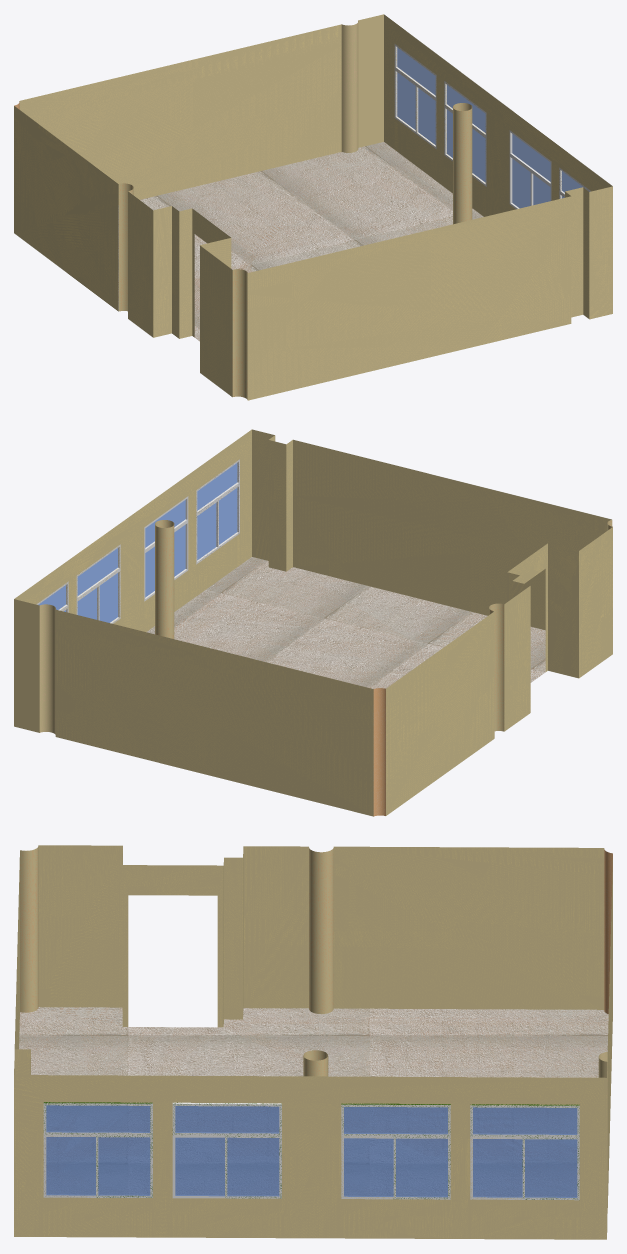
Rendered from AUL011.obj.
3 renders of one model, top to bottom at view 1: azimuth 30°, elevation 25°; view 2: azimuth 150°, elevation 25°; view 3: azimuth 270°, elevation 25°, orthographic. The views are drawn at different scales.
Parts seen in each view (by area): view 1: Mesh25 AUL011 Model, Mesh13 ventana1_1_3 AUL011 Model, Mesh1 ventana1_1_1 AUL011 Model, Mesh19 ventana1_1_4 AUL011 Model; view 2: Mesh25 AUL011 Model, Mesh7 ventana1_1_2 AUL011 Model, Mesh19 ventana1_1_4 AUL011 Model, Mesh1 ventana1_1_1 AUL011 Model; view 3: Mesh25 AUL011 Model, Mesh19 ventana1_1_4 AUL011 Model, Mesh1 ventana1_1_1 AUL011 Model, Mesh13 ventana1_1_3 AUL011 Model, Mesh7 ventana1_1_2 AUL011 Model.
Part boxes in pixels (left/top/right/bottom): Mesh25 AUL011 Model: left=14, top=14, right=612, bottom=400; Mesh13 ventana1_1_3 AUL011 Model: left=394, top=44, right=436, bottom=148; Mesh1 ventana1_1_1 AUL011 Model: left=509, top=130, right=551, bottom=209; Mesh19 ventana1_1_4 AUL011 Model: left=444, top=81, right=486, bottom=186; Mesh25 AUL011 Model: left=14, top=429, right=612, bottom=816; Mesh7 ventana1_1_2 AUL011 Model: left=196, top=459, right=239, bottom=564; Mesh19 ventana1_1_4 AUL011 Model: left=76, top=544, right=120, bottom=623; Mesh1 ventana1_1_1 AUL011 Model: left=144, top=496, right=188, bottom=601; Mesh25 AUL011 Model: left=14, top=845, right=612, bottom=1239; Mesh19 ventana1_1_4 AUL011 Model: left=341, top=1103, right=450, bottom=1199; Mesh1 ventana1_1_1 AUL011 Model: left=172, top=1102, right=281, bottom=1198; Mesh13 ventana1_1_3 AUL011 Model: left=470, top=1104, right=579, bottom=1200; Mesh7 ventana1_1_2 AUL011 Model: left=43, top=1102, right=152, bottom=1197.
Bounding box in the file's own units: 11.13 × 3.6 × 12.07.
Materials: 10 (2 with a texture image).
